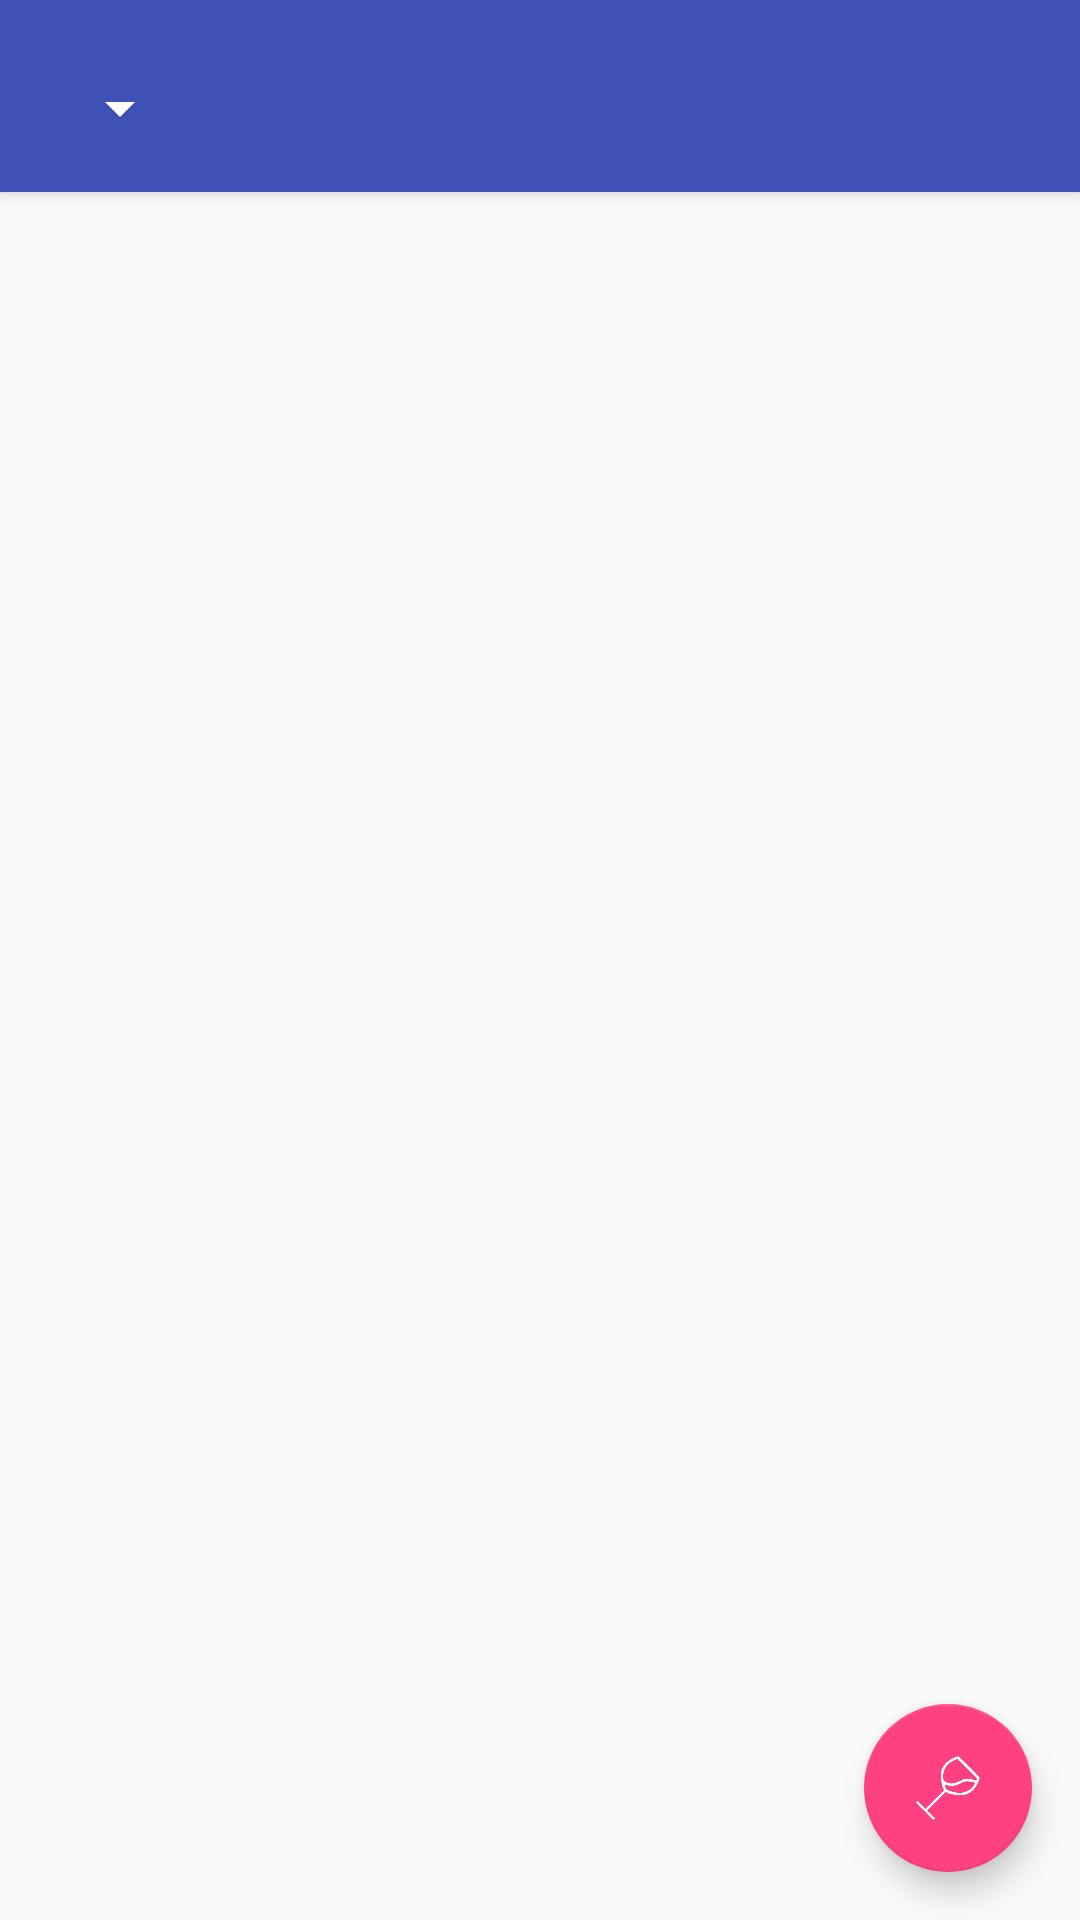

Icons on this 1080px x 1920px Android screen, each with the point to tap as [x,y]:
wine glass angle: [948,1788]
